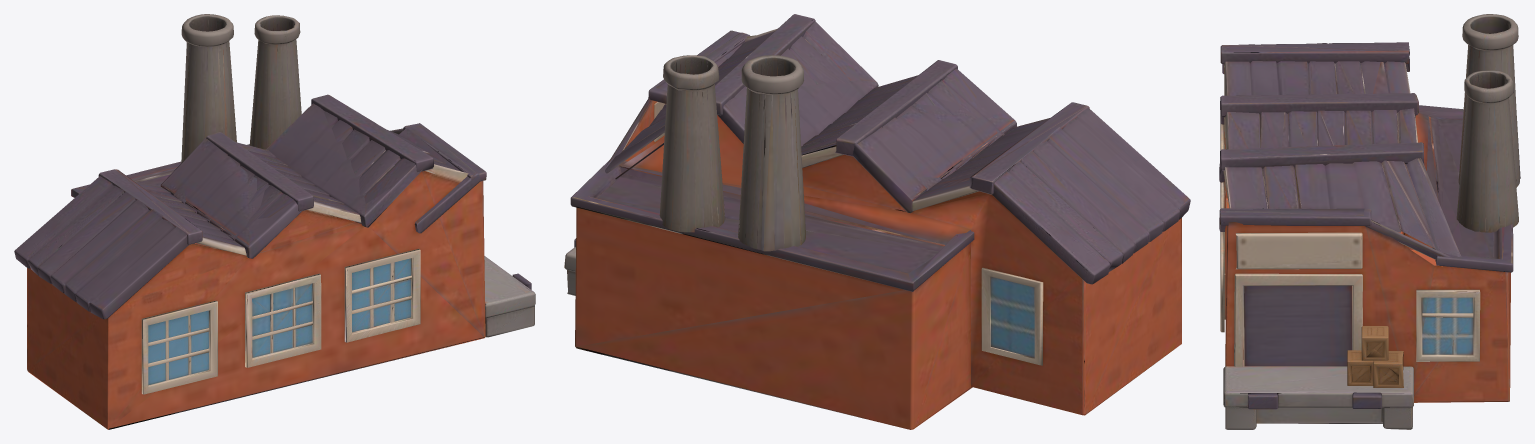
File: factory.glb
The picture shows the model from 3 angles, left to right: view 1: azimuth 30°, elevation 25°; view 2: azimuth 150°, elevation 25°; view 3: azimuth 270°, elevation 25°; orthographic projection. The views are drawn at different scales.
Parts seen in each view (by area): view 1: geometry_0; view 2: geometry_0; view 3: geometry_0.
Part boxes in pixels (left/top/right/bottom): geometry_0: left=14, top=14, right=535, bottom=429; geometry_0: left=564, top=14, right=1190, bottom=429; geometry_0: left=1219, top=14, right=1520, bottom=429.
Bounding box in the file's own units: 0.9517 × 0.543 × 0.5029.
1 material, 1 textured.
